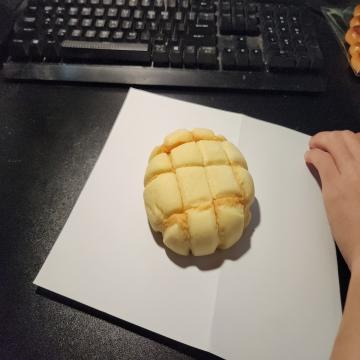melon_bread: (144, 127, 256, 258)
